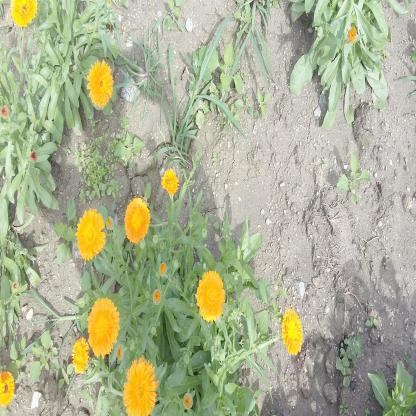marigold: (86, 296, 121, 359), (123, 356, 159, 415), (75, 206, 106, 260), (196, 270, 225, 323), (86, 58, 114, 108), (123, 196, 150, 243), (282, 306, 303, 357), (71, 337, 90, 375), (0, 371, 15, 408), (161, 166, 179, 196)
